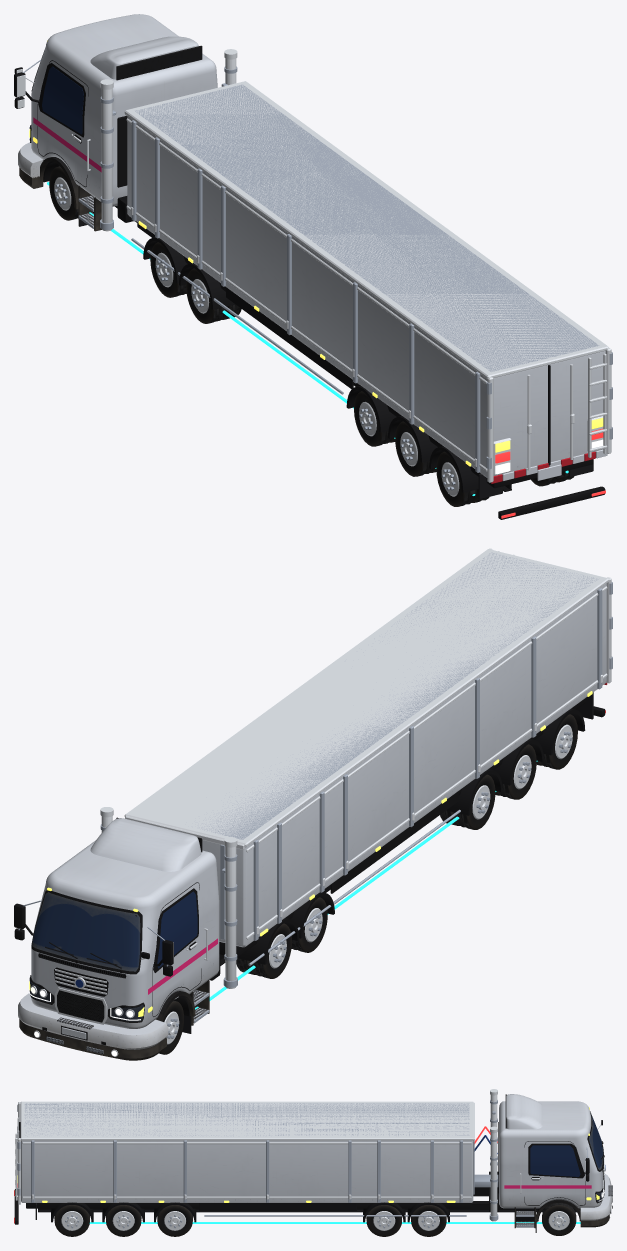
File: dekotora_truck_carreta.glb
3 renders of one model, top to bottom at view 1: azimuth 30°, elevation 25°; view 2: azimuth 150°, elevation 25°; view 3: azimuth 270°, elevation 25°, orthographic. The views are drawn at different scales.
Parts seen in each view (by area): view 1: truck_paint_white_panel, truck_steel, truck_chrome, truck_plastic_black, truck_plastic_trim, truck_glass, wheel_r_L_1.5_1.06, wheel_r_L_3.0_1.06, wheel_r_L_4.5_1.06, wheel_r_L_10.6_1.06, wheel_r_L_11.9_1.06, wheel_f_L (+2 smaller); view 2: truck_paint_white_panel, truck_chrome, truck_steel, truck_plastic_black, truck_glass_wind, truck_plastic_trim, truck_glass, wheel_r_L_4.5_1.06, wheel_r_L_3.0_1.06, wheel_r_L_1.5_1.06, wheel_r_L_11.9_1.06, wheel_r_L_10.6_1.06 (+3 smaller); view 3: truck_paint_white_panel, truck_chrome, truck_steel, truck_plastic_black, truck_glass, truck_plastic_trim, wheel_f_R, wheel_r_R_1.5_1.06, wheel_r_R_3.0_1.06, wheel_r_R_4.5_1.06, wheel_r_R_10.6_1.06, wheel_r_R_11.9_1.06 (+4 smaller).
Part boxes in pixels (left/top/right/bottom): truck_paint_white_panel: left=18, top=14, right=605, bottom=477; truck_steel: left=18, top=60, right=612, bottom=472; truck_chrome: left=16, top=49, right=611, bottom=482; truck_plastic_black: left=14, top=60, right=605, bottom=519; truck_plastic_trim: left=19, top=45, right=202, bottom=231; truck_glass: left=42, top=66, right=83, bottom=134; wheel_r_L_1.5_1.06: left=436, top=451, right=476, bottom=506; wheel_r_L_3.0_1.06: left=395, top=421, right=432, bottom=476; wheel_r_L_4.5_1.06: left=354, top=391, right=391, bottom=446; wheel_r_L_10.6_1.06: left=186, top=268, right=225, bottom=323; wheel_r_L_11.9_1.06: left=150, top=242, right=186, bottom=297; wheel_f_L: left=49, top=166, right=78, bottom=220; truck_paint_white_panel: left=18, top=583, right=606, bottom=1049; truck_chrome: left=25, top=548, right=611, bottom=1056; truck_steel: left=18, top=552, right=612, bottom=1023; truck_plastic_black: left=14, top=692, right=605, bottom=1045; truck_glass_wind: left=32, top=892, right=140, bottom=971; truck_plastic_trim: left=19, top=817, right=209, bottom=1060; truck_glass: left=157, top=891, right=197, bottom=968; wheel_r_L_4.5_1.06: left=455, top=774, right=495, bottom=829; wheel_r_L_3.0_1.06: left=499, top=744, right=536, bottom=799; wheel_r_L_1.5_1.06: left=540, top=714, right=577, bottom=769; wheel_r_L_11.9_1.06: left=252, top=923, right=291, bottom=978; wheel_r_L_10.6_1.06: left=291, top=897, right=327, bottom=952; truck_paint_white_panel: left=21, top=1094, right=611, bottom=1220; truck_chrome: left=15, top=1089, right=610, bottom=1221; truck_steel: left=17, top=1100, right=587, bottom=1227; truck_plastic_black: left=14, top=1120, right=612, bottom=1224; truck_glass: left=530, top=1145, right=580, bottom=1176; truck_plastic_trim: left=505, top=1094, right=610, bottom=1228; wheel_f_R: left=542, top=1203, right=576, bottom=1235; wheel_r_R_1.5_1.06: left=54, top=1205, right=89, bottom=1236; wheel_r_R_3.0_1.06: left=106, top=1205, right=141, bottom=1236; wheel_r_R_4.5_1.06: left=157, top=1205, right=192, bottom=1236; wheel_r_R_10.6_1.06: left=366, top=1205, right=401, bottom=1236; wheel_r_R_11.9_1.06: left=411, top=1205, right=446, bottom=1236.
Bounding box in the file's own units: 3.32 × 3.68 × 17.47.
Materials: 22 (8 with a texture image).
